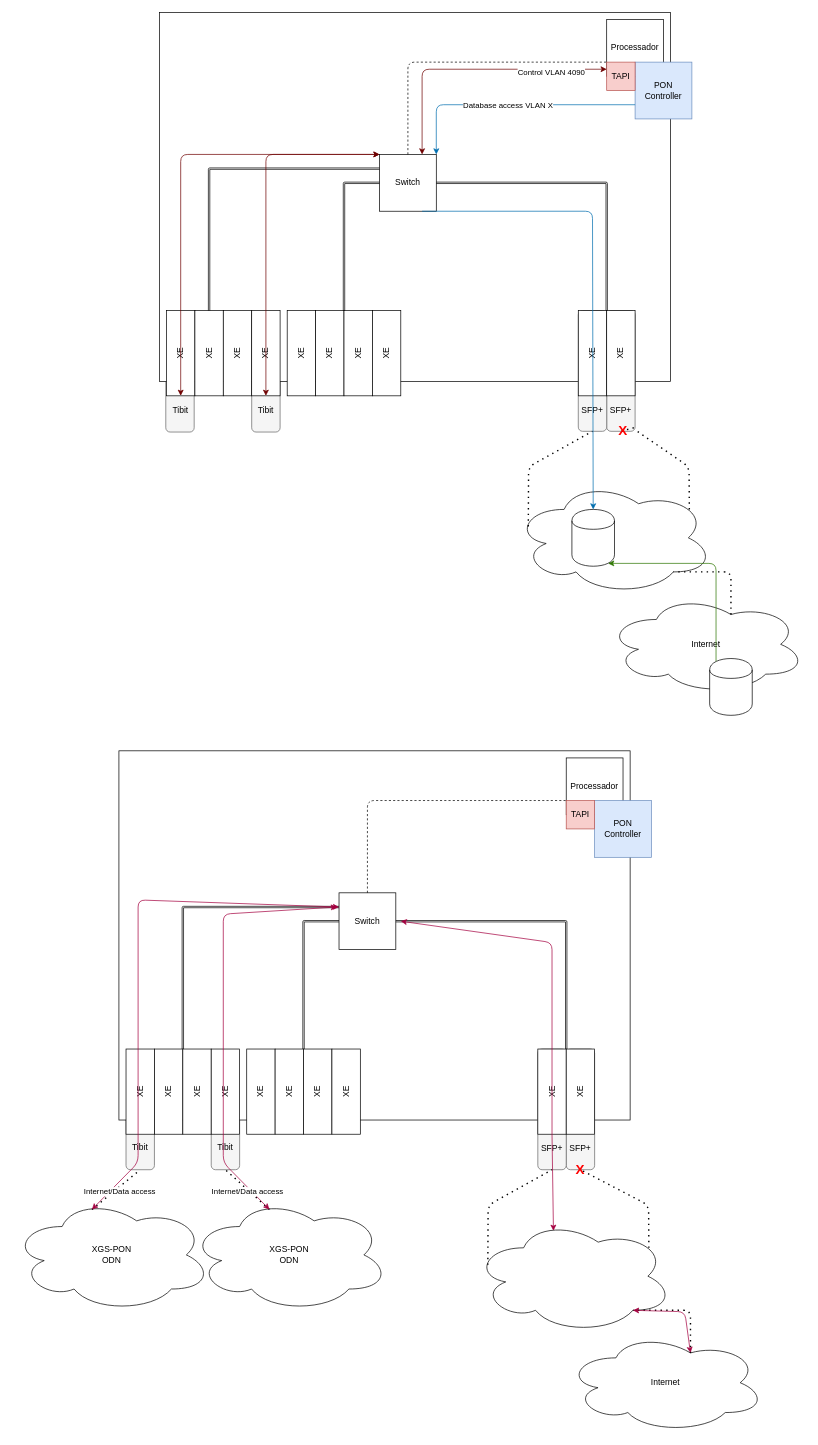
The diagram is 818 pixels wide and 1445 high, and some of its shapes have lost their labels. Each missing label, with the centre of its shape:
"Carrier Network" goes at [573,1276].
"Laserway Manager" goes at [730,686].
"Mongo DB" goes at [593,537].
